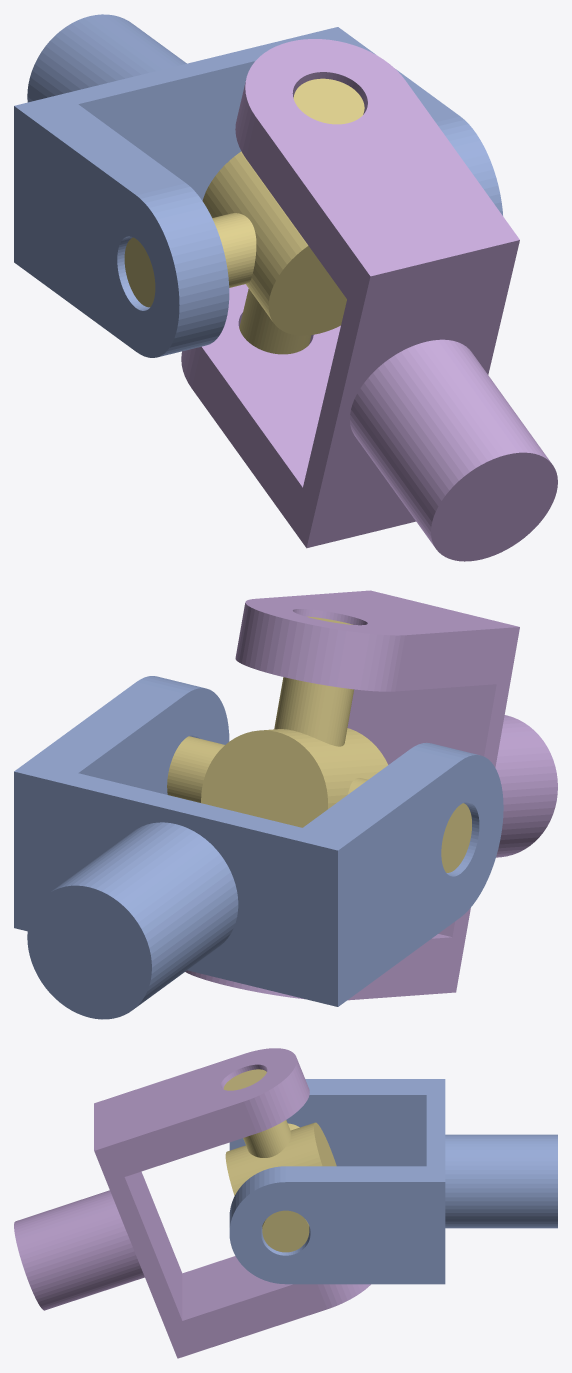
Rendered from universal_joint_demo.glb.
The picture shows the model from 3 angles, top to bottom: view 1: azimuth 30°, elevation 25°; view 2: azimuth 150°, elevation 25°; view 3: azimuth 270°, elevation 25°; orthographic projection. The views are drawn at different scales.
Visible parts, largest first — view 1: fork_yoke_output, fork_yoke_input, cross_spider; view 2: fork_yoke_input, fork_yoke_output, cross_spider; view 3: fork_yoke_input, fork_yoke_output, cross_spider.
Part boxes in pixels (x1=…): fork_yoke_output: x1=181, y1=39, x2=557, y2=561; fork_yoke_input: x1=14, y1=14, x2=502, y2=357; cross_spider: x1=124, y1=78, x2=364, y2=354; fork_yoke_input: x1=14, y1=676, x2=503, y2=1019; fork_yoke_output: x1=185, y1=590, x2=557, y2=1000; cross_spider: x1=167, y1=616, x2=471, y2=872; fork_yoke_input: x1=229, y1=1079, x2=557, y2=1284; fork_yoke_output: x1=14, y1=1048, x2=370, y2=1358; cross_spider: x1=223, y1=1069, x2=336, y2=1252.
Size of the model in its own units: 26 by 32.3 by 57.96.
